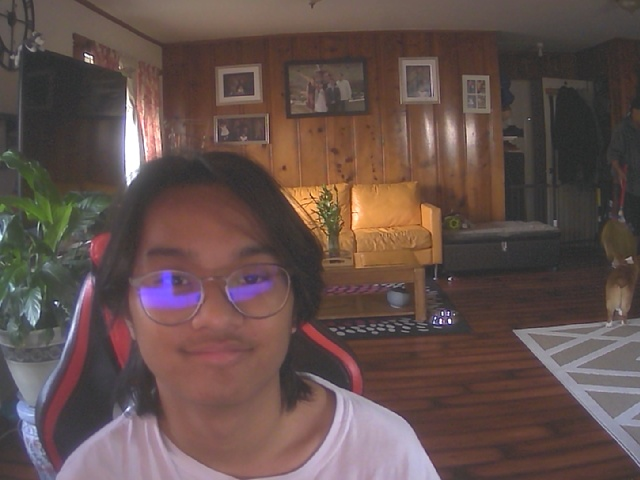happy: (115, 158, 312, 408)
